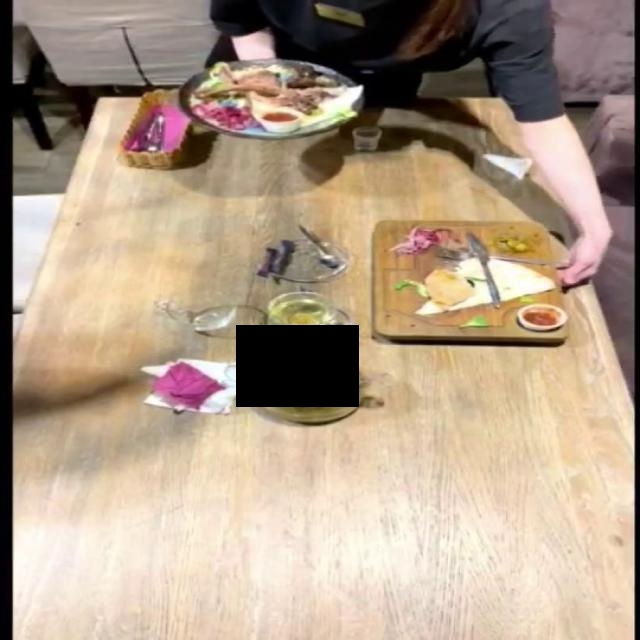meat: (362, 212, 570, 349), (188, 61, 355, 135)
tea: (220, 347, 375, 418)
